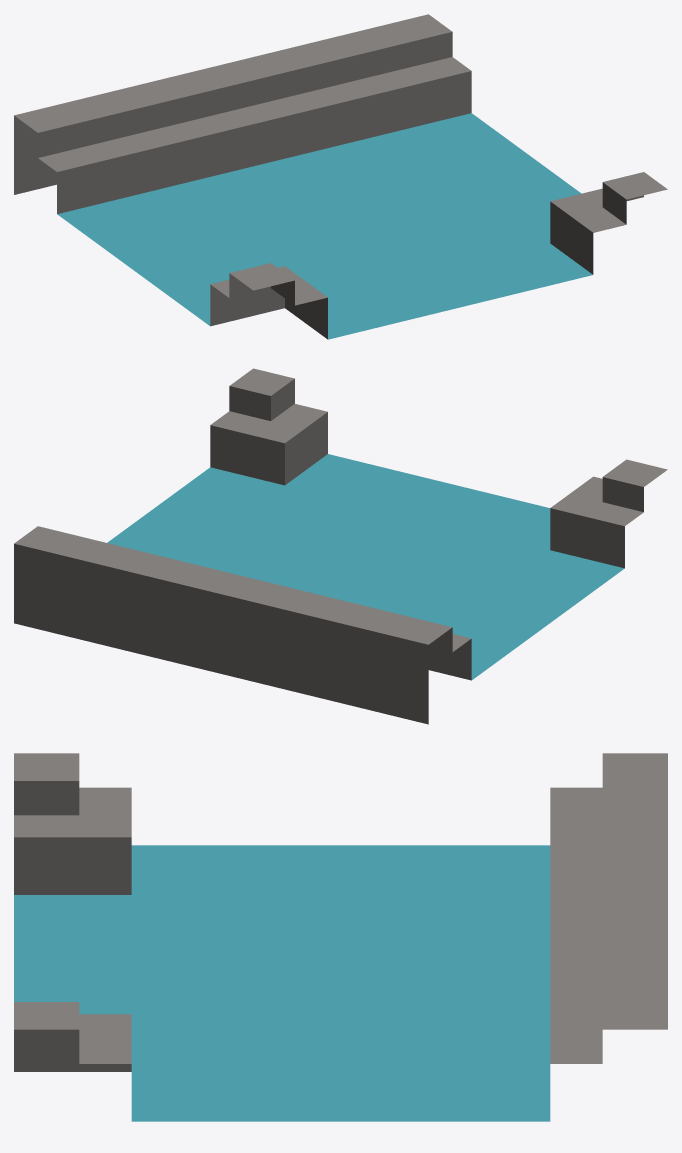
Rendered from SF_Bld_Elven_Stream_TSection_01.fbx.
The picture shows the model from 3 angles, top to bottom: view 1: azimuth 30°, elevation 25°; view 2: azimuth 150°, elevation 25°; view 3: azimuth 270°, elevation 25°; orthographic projection. The views are drawn at different scales.
Visible parts, largest first — view 1: SF_Env_Elven_Stream_TSection_01; view 2: SF_Env_Elven_Stream_TSection_01; view 3: SF_Env_Elven_Stream_TSection_01.
Boxes of the visible parts, x1,y1,x2,y2 form: SF_Env_Elven_Stream_TSection_01: (14,14,667,339); SF_Env_Elven_Stream_TSection_01: (14,368,667,724); SF_Env_Elven_Stream_TSection_01: (14,753,667,1121).
Size of the model in its own units: 3 by 0.5512 by 3.
